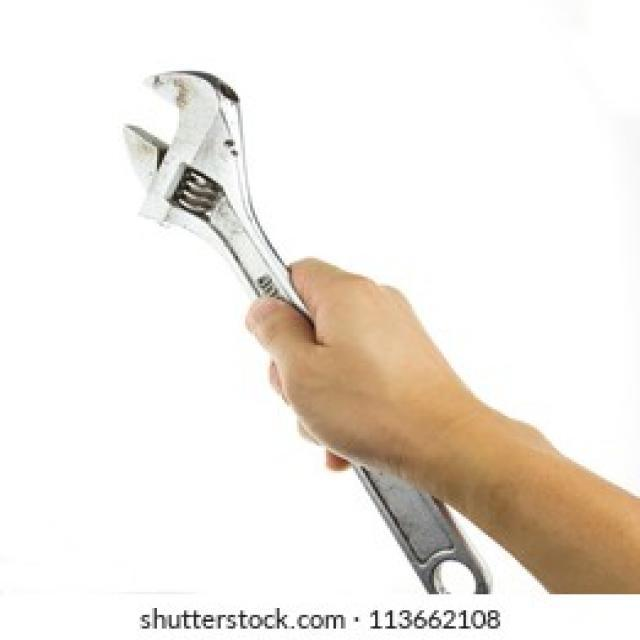wrench: (120, 62, 494, 600)
